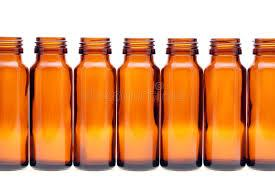glass: (26, 31, 74, 172), (74, 29, 117, 176), (117, 29, 159, 173)
